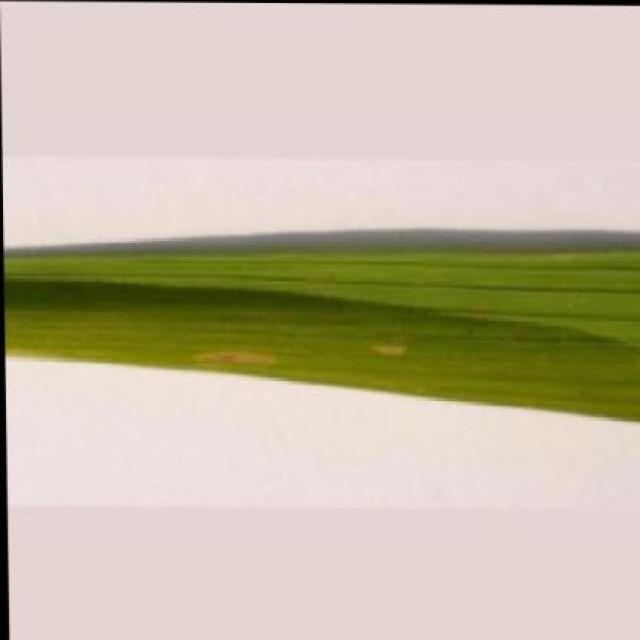Brown_Spot: (3, 240, 640, 422)
